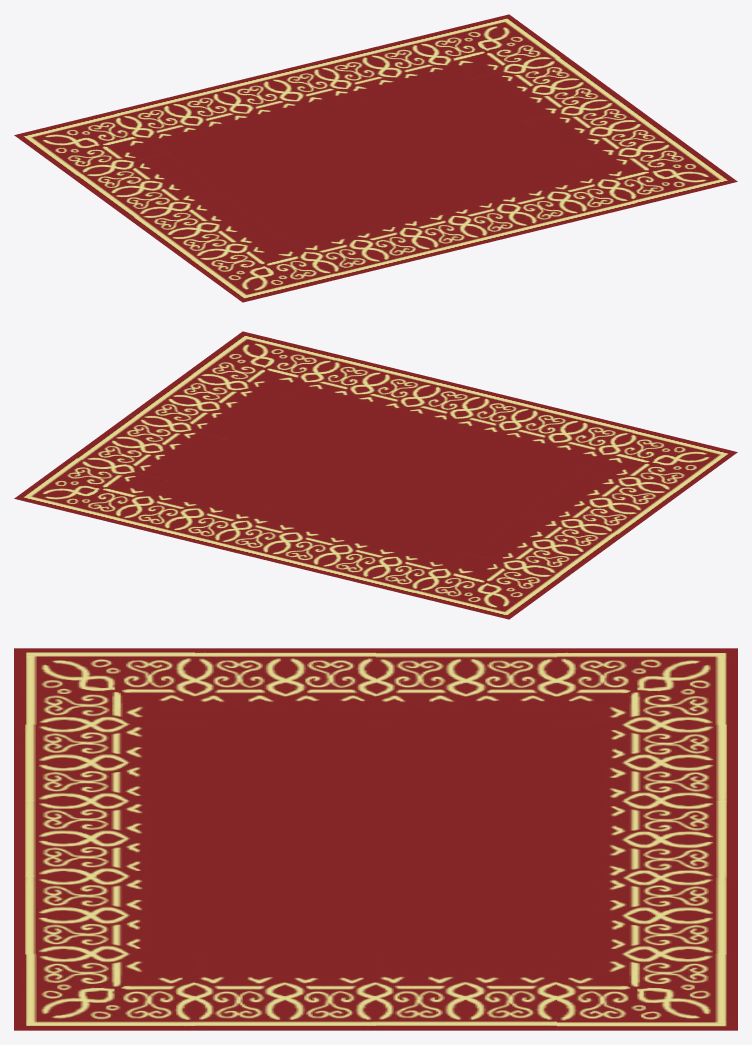
The model's file is Mansion_Carpet.fbx.
3 views of the same model, one above another, from view 1: azimuth 30°, elevation 25°; view 2: azimuth 150°, elevation 25°; view 3: azimuth 270°, elevation 25° (orthographic). The views are drawn at different scales.
Visible parts, largest first — view 1: Floor2.001; view 2: Floor2.001; view 3: Floor2.001.
Part boxes in pixels (<box>): Floor2.001: <box>14,14,737,302</box>; Floor2.001: <box>14,331,737,619</box>; Floor2.001: <box>14,648,737,1030</box>.
Size of the model in its own units: 464 by 6.05e-05 by 371.
